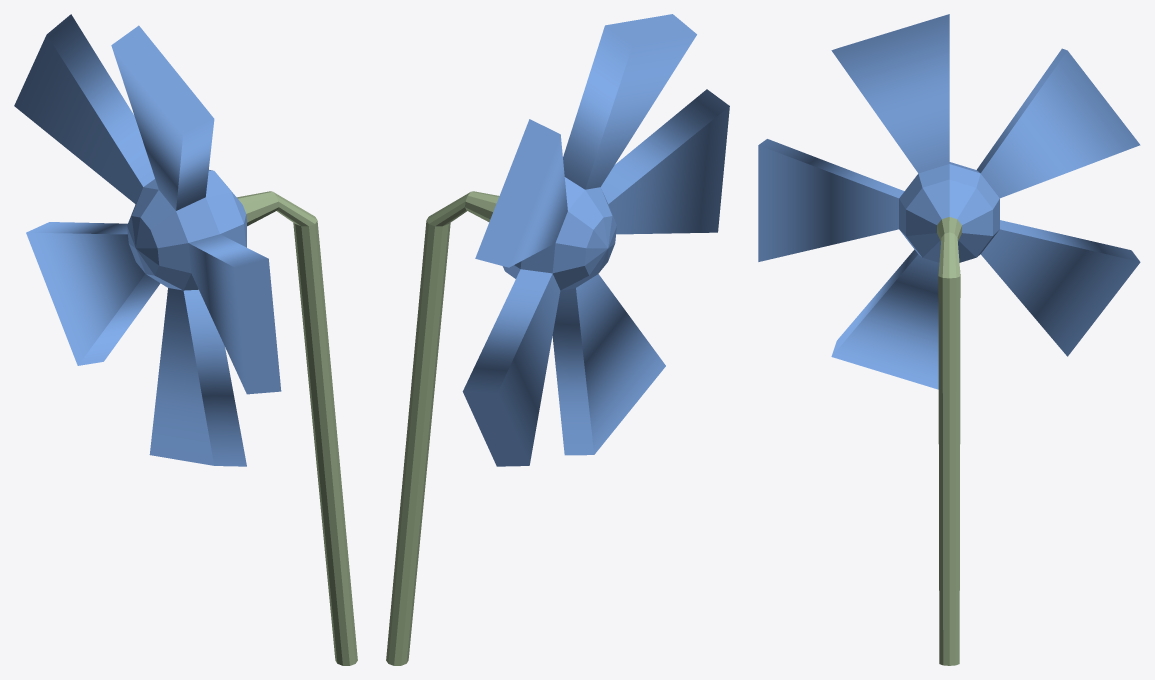
The model's file is geo_flower_04.fbx.
The picture shows the model from 3 angles, left to right: view 1: azimuth 30°, elevation 25°; view 2: azimuth 150°, elevation 25°; view 3: azimuth 270°, elevation 25°; orthographic projection. The views are drawn at different scales.
Parts seen in each view (by area): view 1: geo_plantShrub_08; view 2: geo_plantShrub_08; view 3: geo_plantShrub_08.
Boxes of the visible parts, x1,y1,x2,y2 form: geo_plantShrub_08: [14, 14, 357, 665]; geo_plantShrub_08: [386, 14, 729, 665]; geo_plantShrub_08: [758, 14, 1140, 665].
Bounding box in the file's own units: 6.85 × 18.37 × 11.24.
